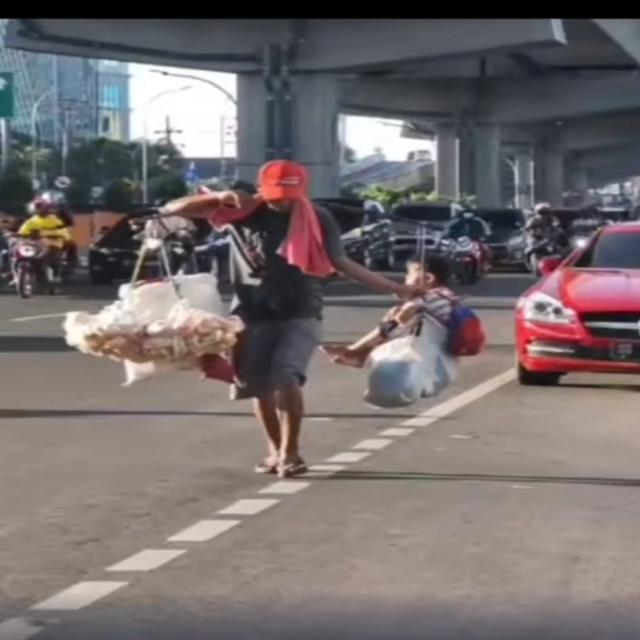Panggul: (64, 160, 337, 494)
